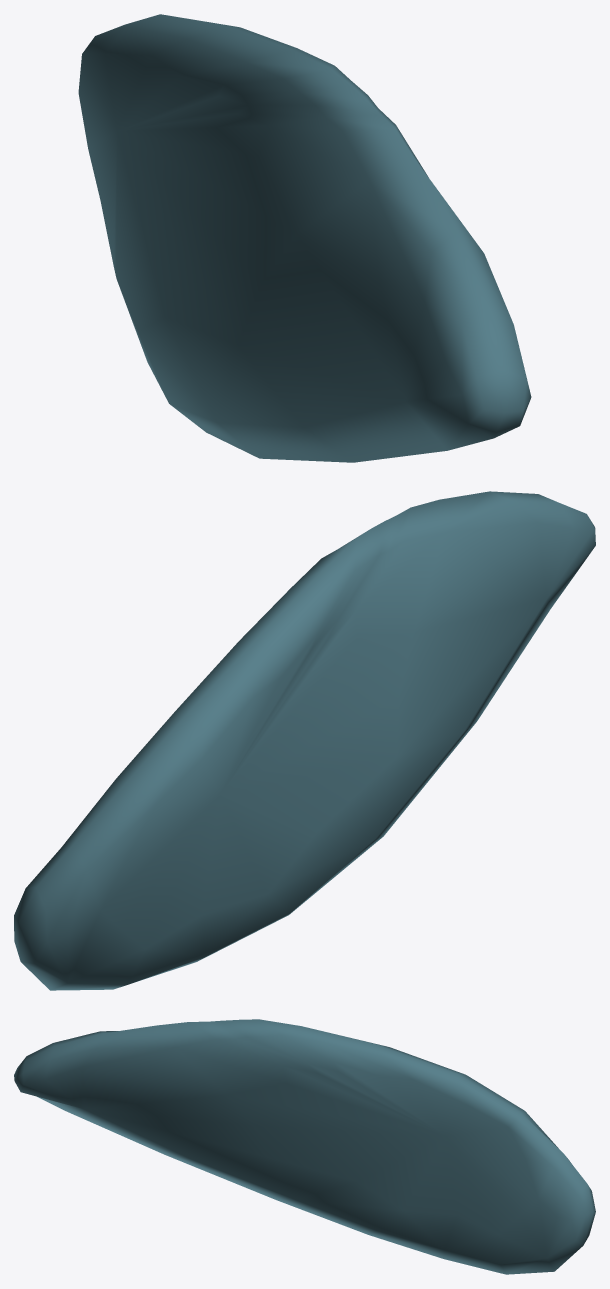
Rendered from Flexor_hallucis_brevis_medial_cuneiform_right.glb.
The picture shows the model from 3 angles, top to bottom: view 1: azimuth 30°, elevation 25°; view 2: azimuth 150°, elevation 25°; view 3: azimuth 270°, elevation 25°; orthographic projection. The views are drawn at different scales.
Parts seen in each view (by area): view 1: Lateral_head_of_flexor_hallucis_brevis_on_medial_cuneiform.r; view 2: Lateral_head_of_flexor_hallucis_brevis_on_medial_cuneiform.r; view 3: Lateral_head_of_flexor_hallucis_brevis_on_medial_cuneiform.r.
Part boxes in pixels (x1,y1,x2,y2): Lateral_head_of_flexor_hallucis_brevis_on_medial_cuneiform.r: (78, 14, 531, 462); Lateral_head_of_flexor_hallucis_brevis_on_medial_cuneiform.r: (14, 491, 595, 990); Lateral_head_of_flexor_hallucis_brevis_on_medial_cuneiform.r: (14, 1019, 595, 1274).
Size of the model in its own units: 0.0017 by 0.00296 by 0.0067.
